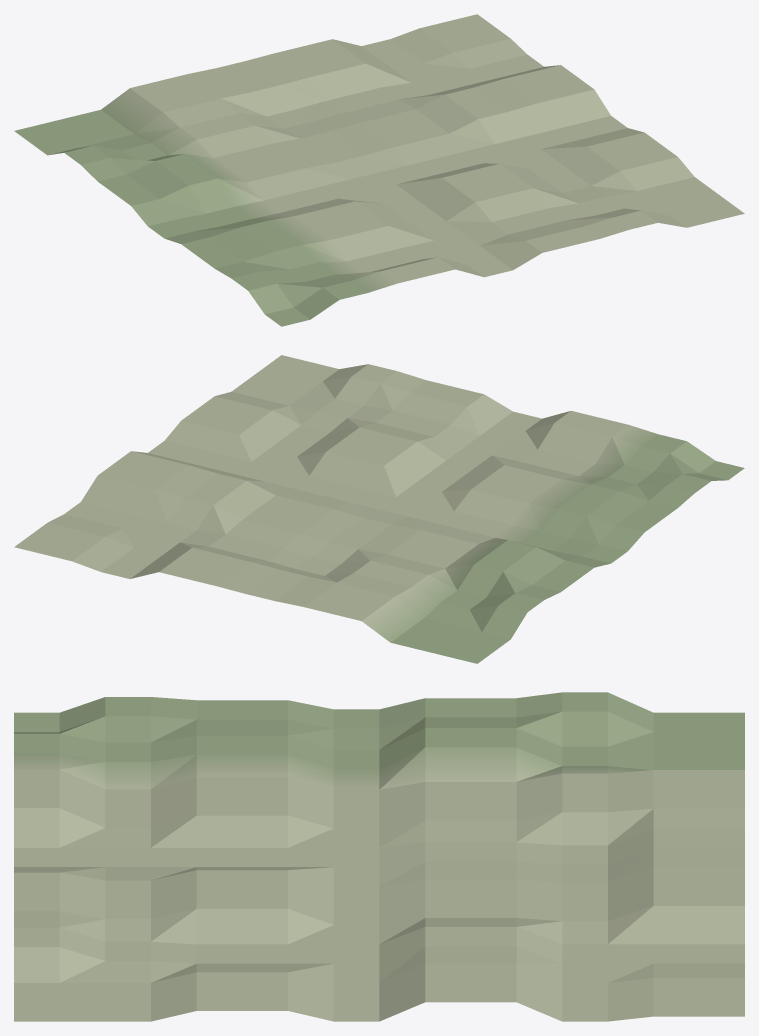
3 views of the same model, one above another, from view 1: azimuth 30°, elevation 25°; view 2: azimuth 150°, elevation 25°; view 3: azimuth 270°, elevation 25° (orthographic). The views are drawn at different scales.
Size of the model in its own units: 32 by 1.12 by 32.
